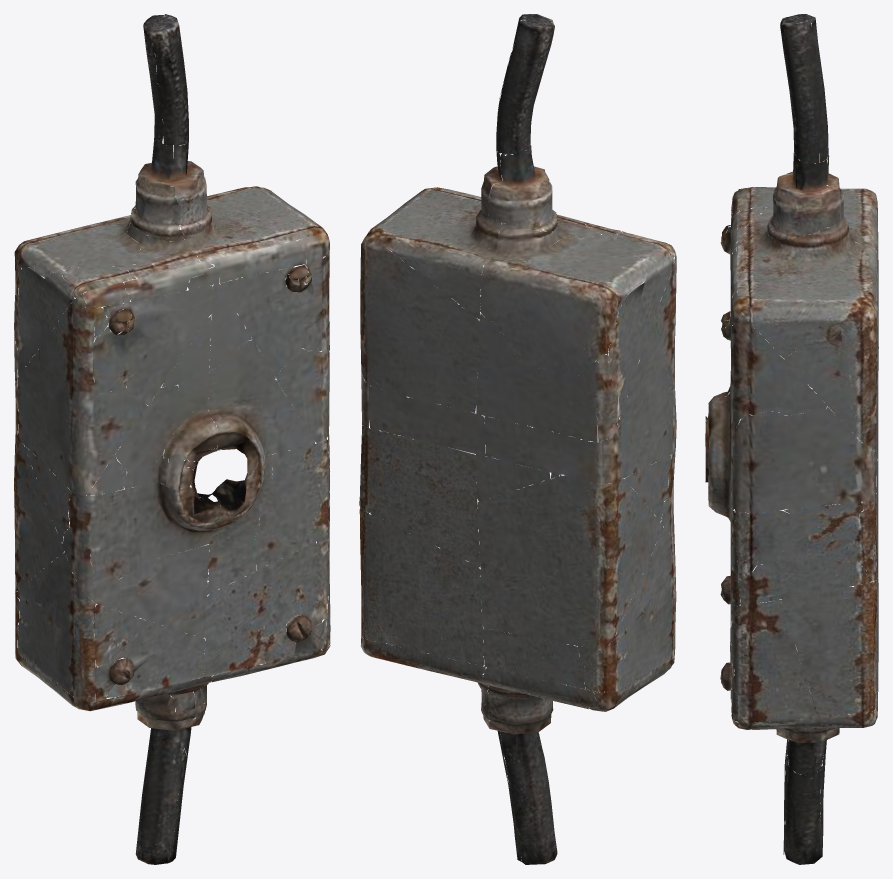
Rendered from switch_prop.glb.
The picture shows the model from 3 angles, left to right: view 1: azimuth 30°, elevation 25°; view 2: azimuth 150°, elevation 25°; view 3: azimuth 270°, elevation 25°; orthographic projection.
Parts seen in each view (by area): view 1: prop_switch; view 2: prop_switch; view 3: prop_switch.
Part boxes in pixels (<box>): prop_switch: <box>14,14,330,864</box>; prop_switch: <box>359,14,676,864</box>; prop_switch: <box>705,14,878,864</box>.
Size of the model in its own units: 0.3171 by 0.9799 by 0.1834.
Materials: 1 (1 with a texture image).
